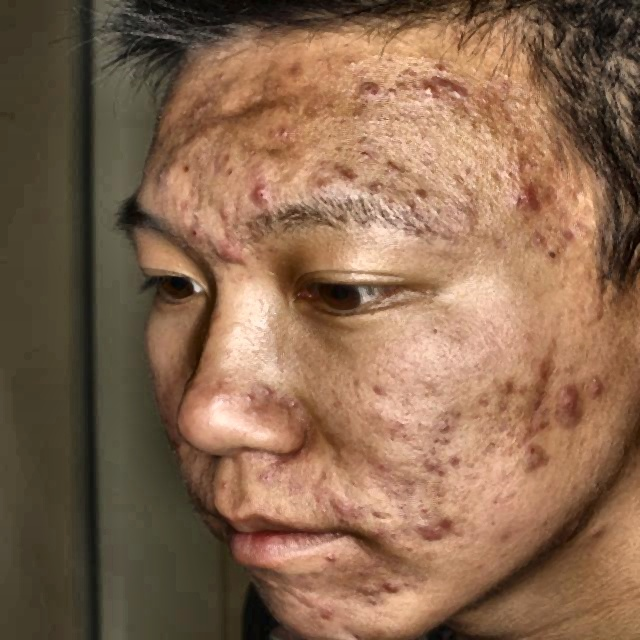papule: (533, 382, 591, 437), (405, 511, 464, 552), (416, 442, 479, 478), (509, 367, 571, 401), (406, 64, 458, 98), (242, 384, 302, 411), (325, 488, 375, 520), (555, 215, 602, 241), (478, 368, 520, 397), (212, 236, 257, 261), (504, 190, 556, 211), (514, 452, 566, 472), (380, 468, 423, 492), (586, 364, 615, 397), (302, 547, 342, 570), (331, 161, 369, 183), (340, 581, 376, 604), (240, 182, 275, 204), (314, 175, 347, 197), (352, 66, 377, 90), (438, 421, 479, 432), (388, 583, 424, 594)
